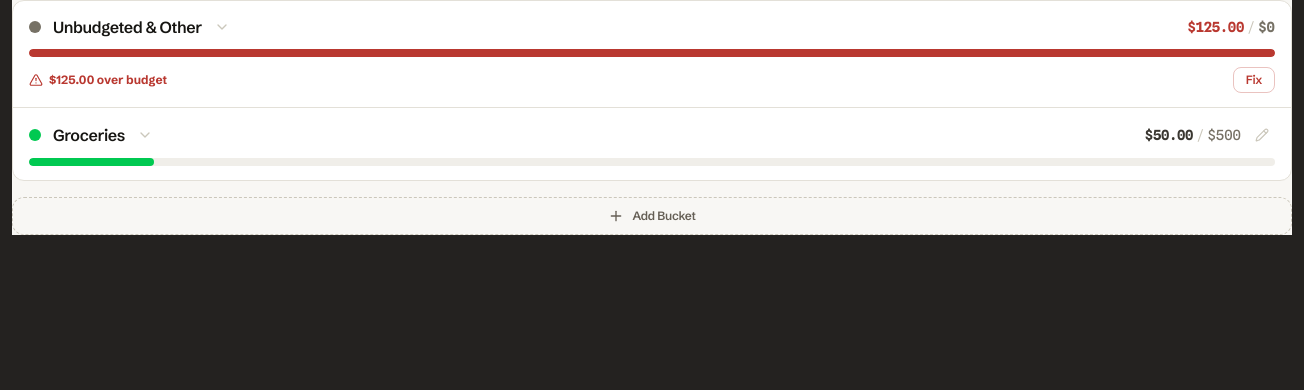
Scenario: BudgetBuckets Unbudgeted Logic › allows expanding Unbudgeted bucket to see details
Click the button with aria-label "View 2 transactions for Unbudgeted & Other".
click(127, 27)  # box [29,15,1176,39]
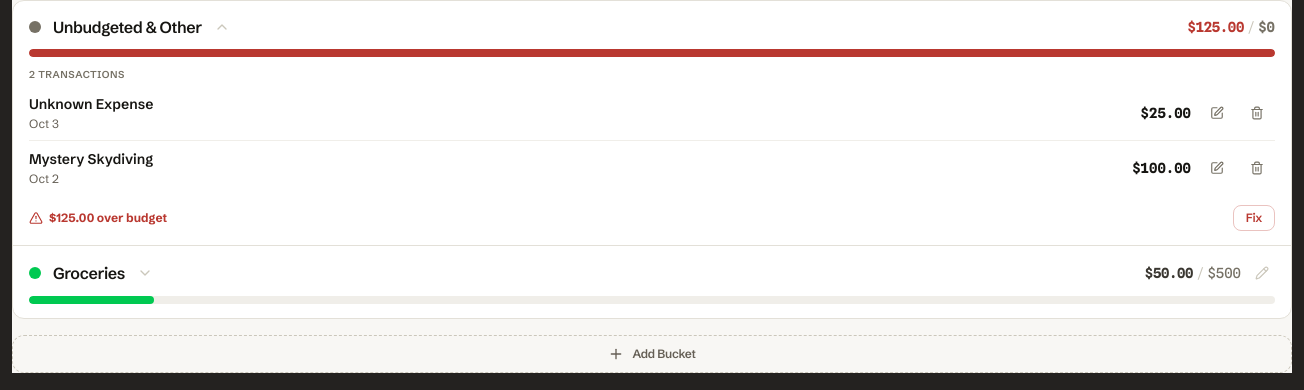
Result: the text "Mystery Skydiving" is shown at [29,149,153,169]
Result: the text "Unknown Expense" is shown at [29,94,154,114]
